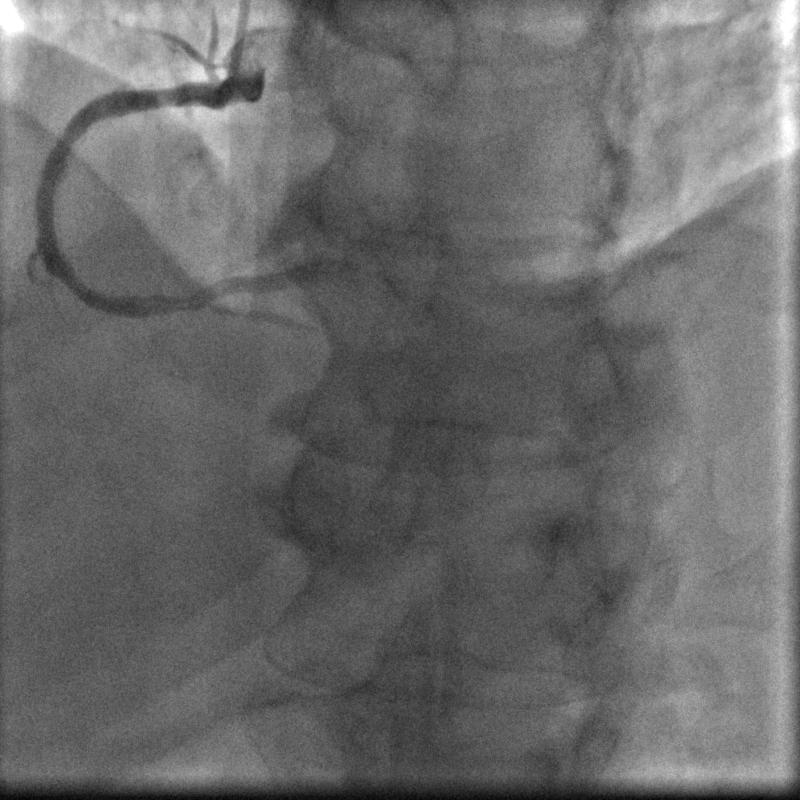Stenosis: (143, 289, 216, 312)
